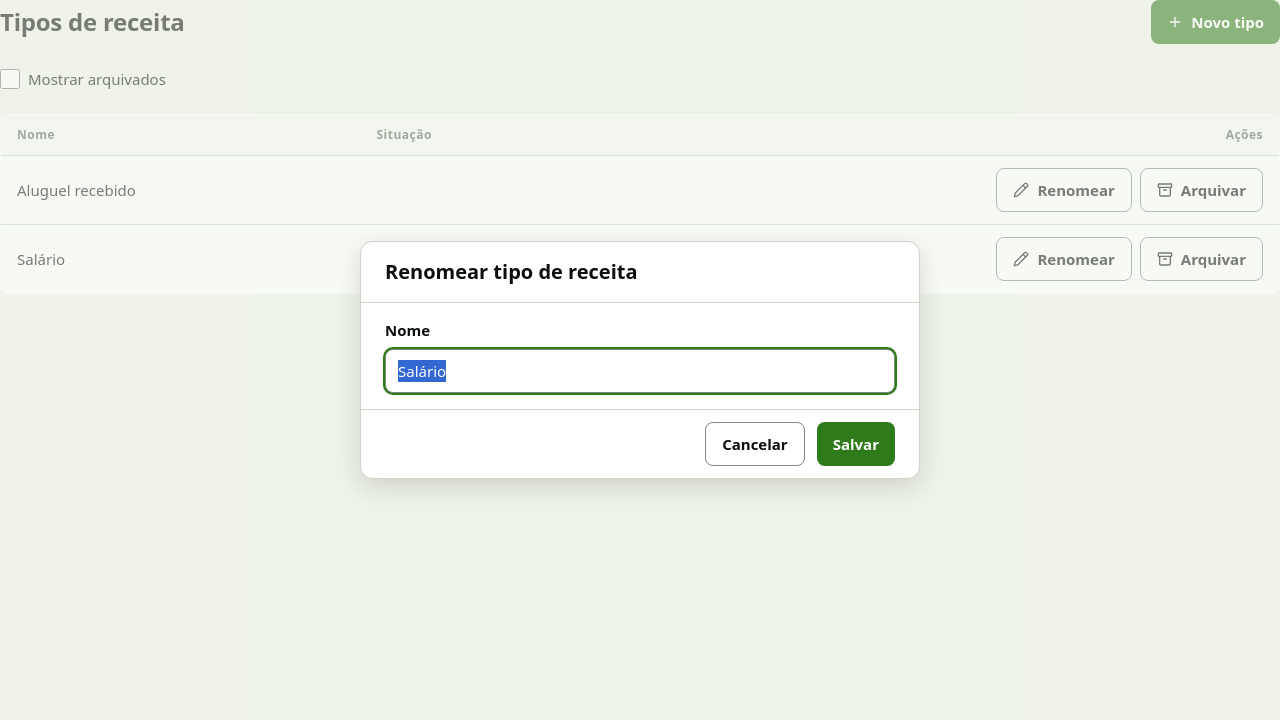
Test case: EarningTypesPage › closes without a request when the name did not change, and on Cancelar
Click the button "Salvar": (856, 444) [817,422,895,466]
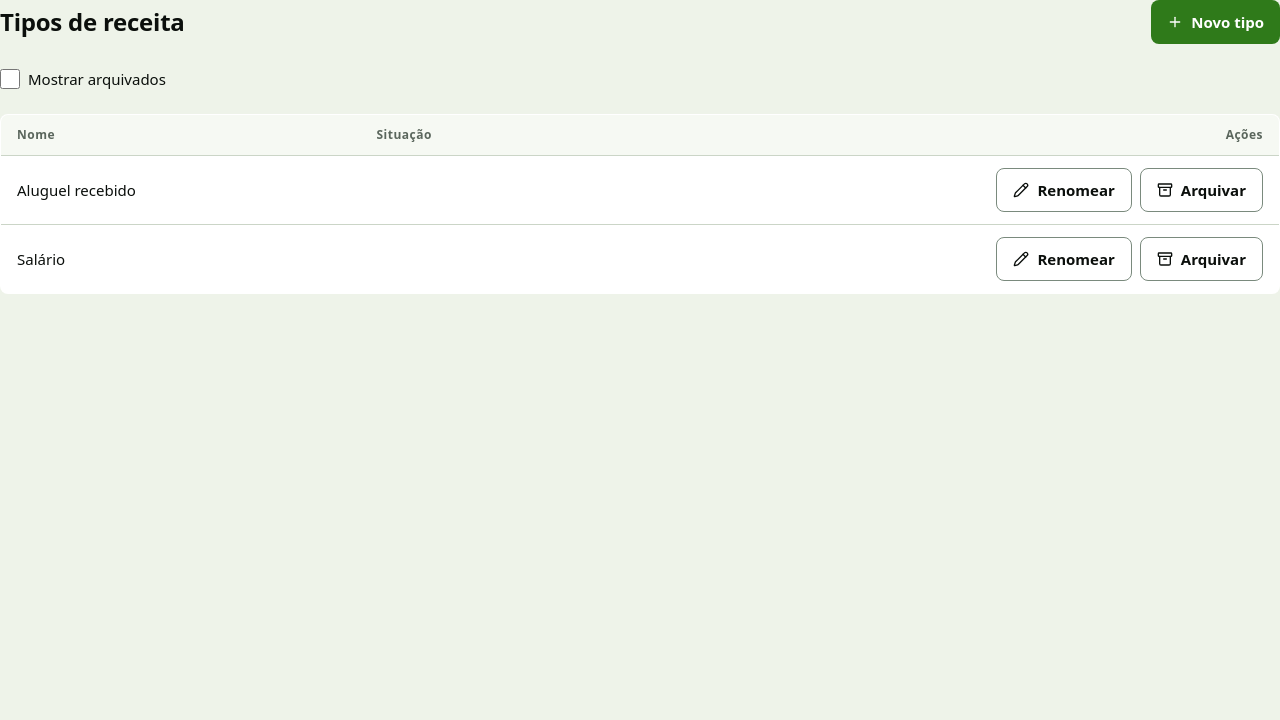
Expected: the dialog is gone
Click the button "Novo tipo": (1216, 22) [1151,0,1279,44]
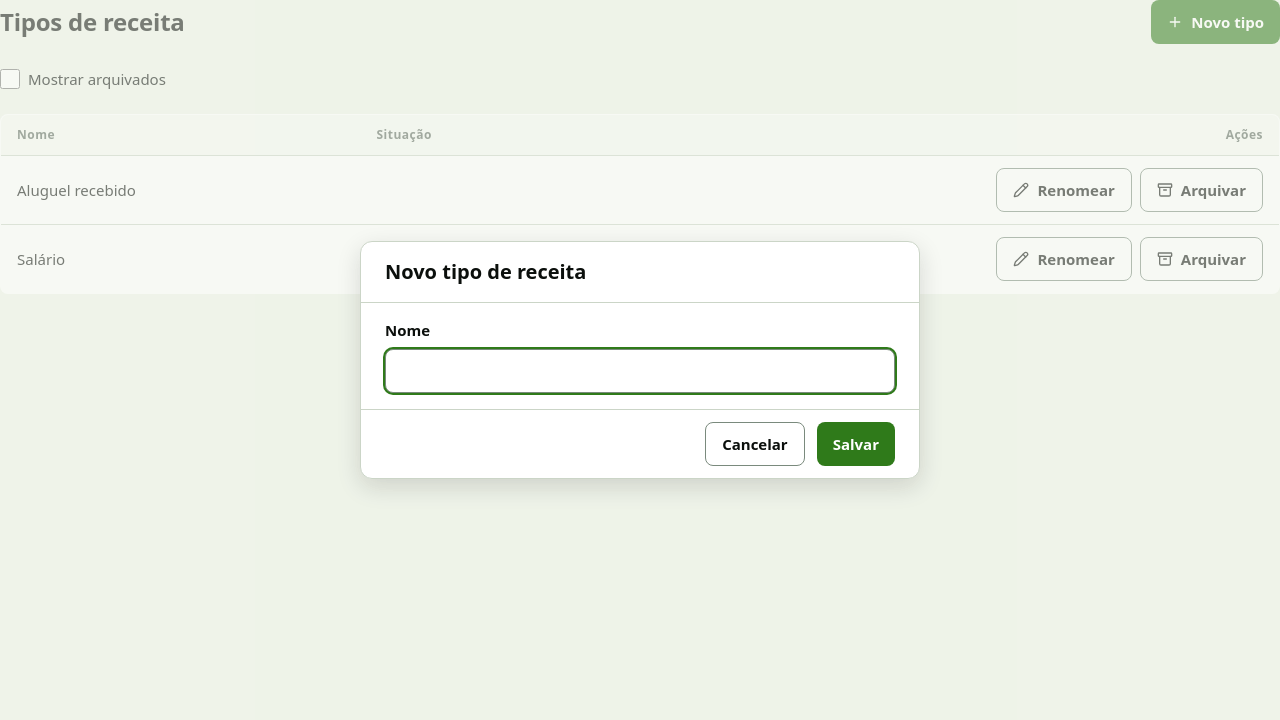
Click the button "Cancelar": (755, 444) [705,422,805,466]
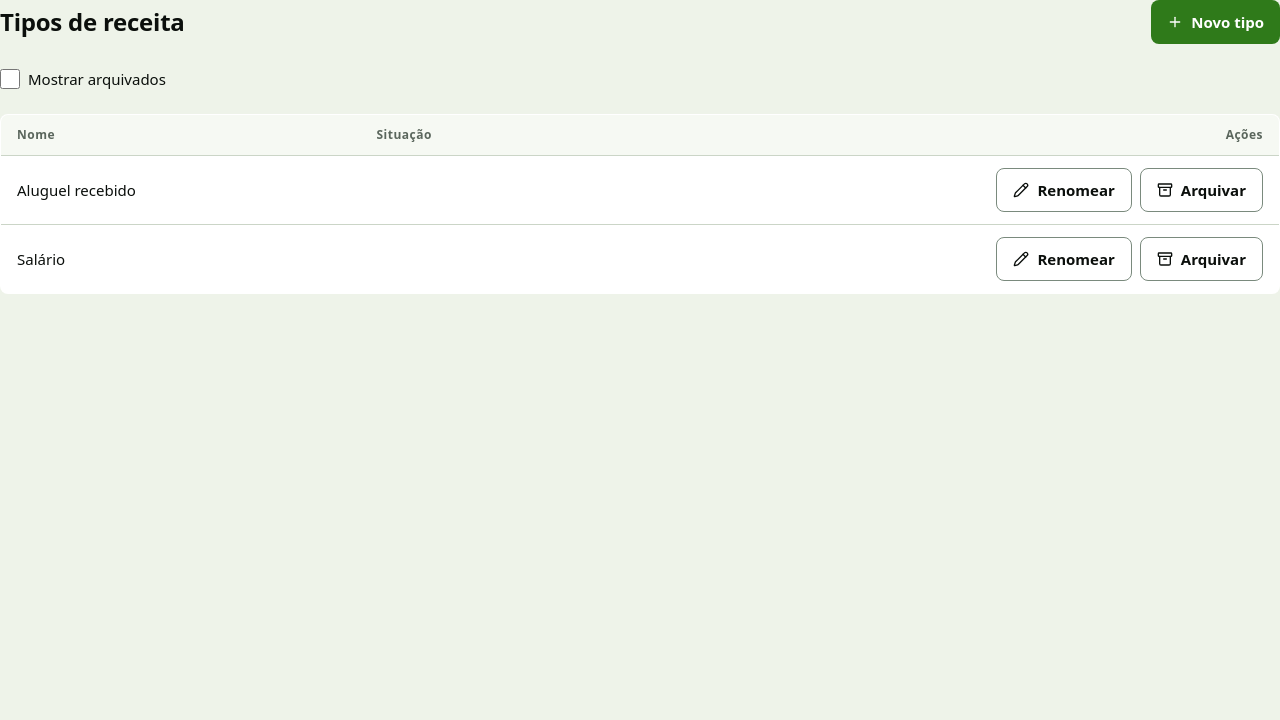
Expected: the dialog is gone
